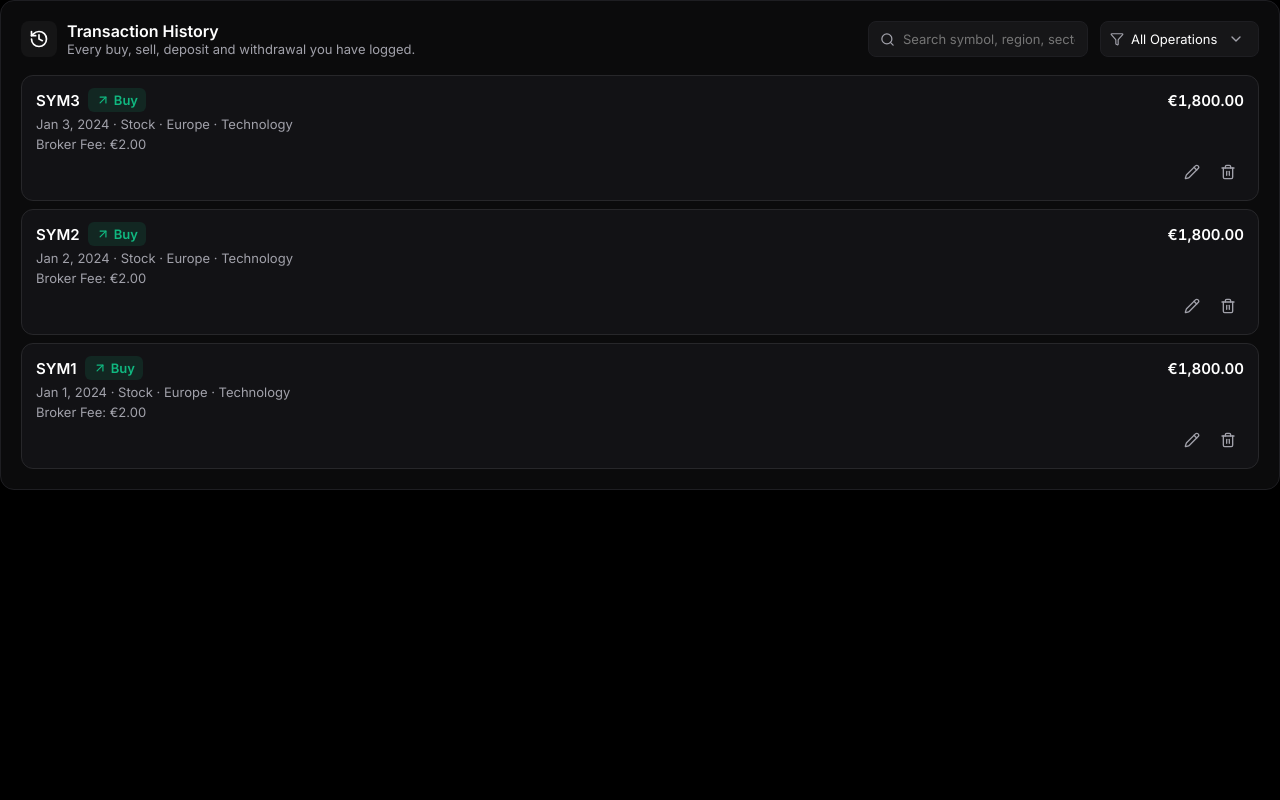
it: removing a transaction › says which later transaction depends on it when the change is refused, and stays open
The width and height of the screenshot is (1280, 800).
What coordinates should you click on to do the following:
click the button named "Delete Buy SYM1, Jan 1, 2024"
I would click on:
 (1228, 440)
Its box is x1=1212 y1=424 x2=1244 y2=456.
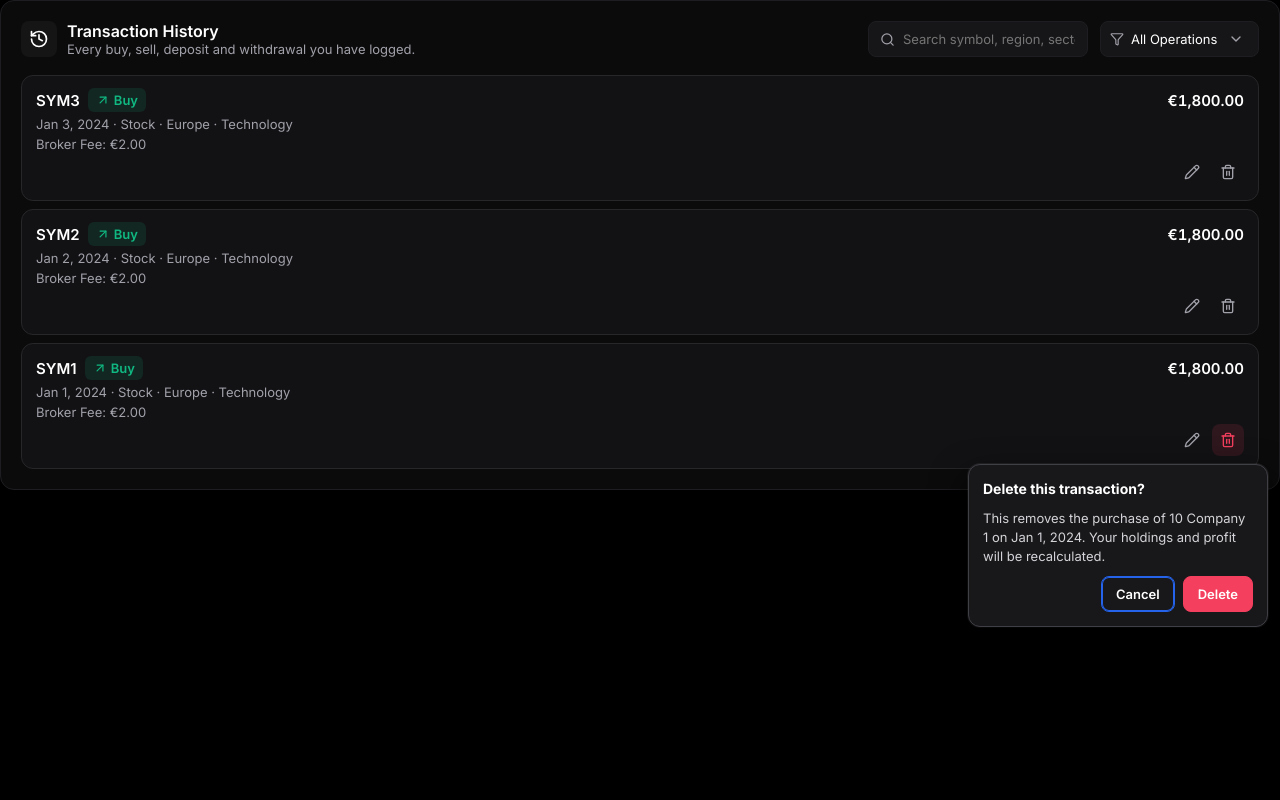
What coordinates should you click on to do the following:
click the button "Delete"
I would click on:
 (1218, 594)
Its box is x1=1183 y1=576 x2=1253 y2=612.
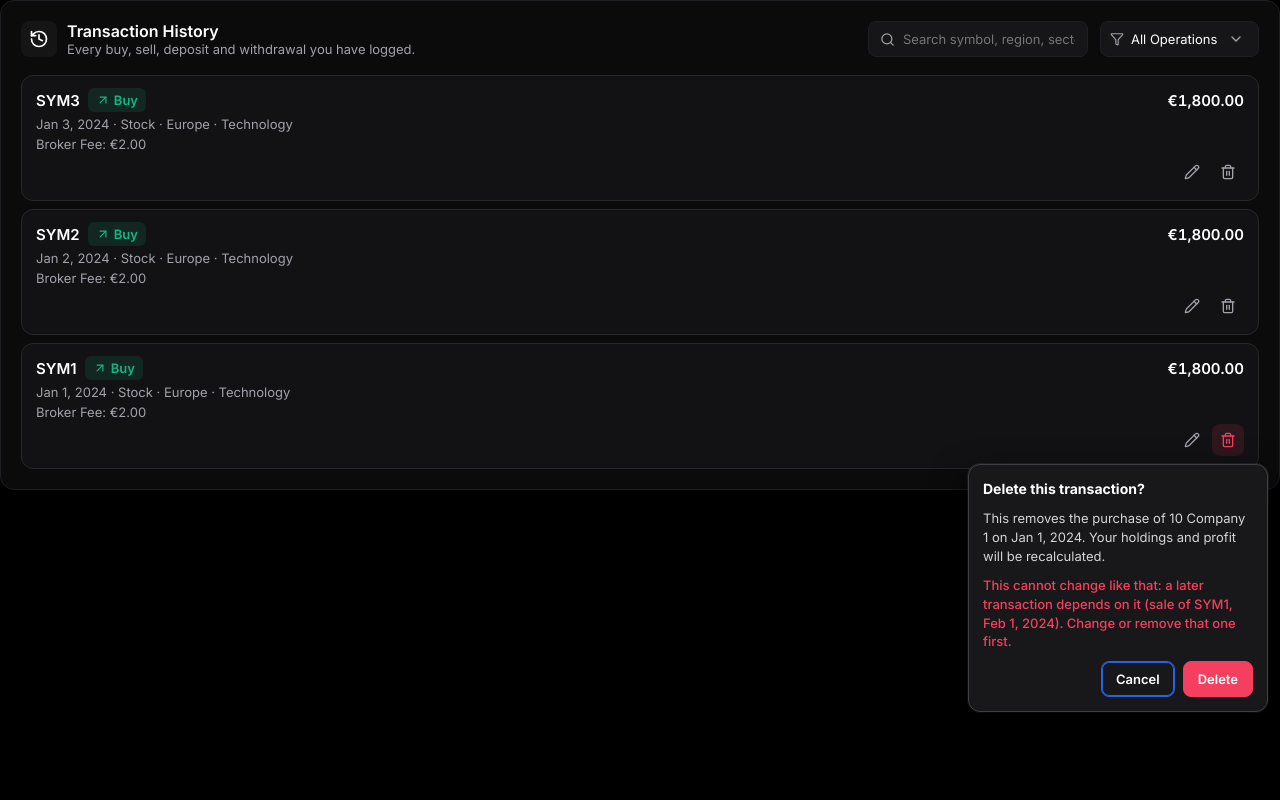
Expected: the dialog is shown, x1=968 y1=464 x2=1268 y2=712
Expected: the text "a later transaction depends on it (sale of SYM1, Feb 1, 2024)" is shown, x1=983 y1=577 x2=1236 y2=649
